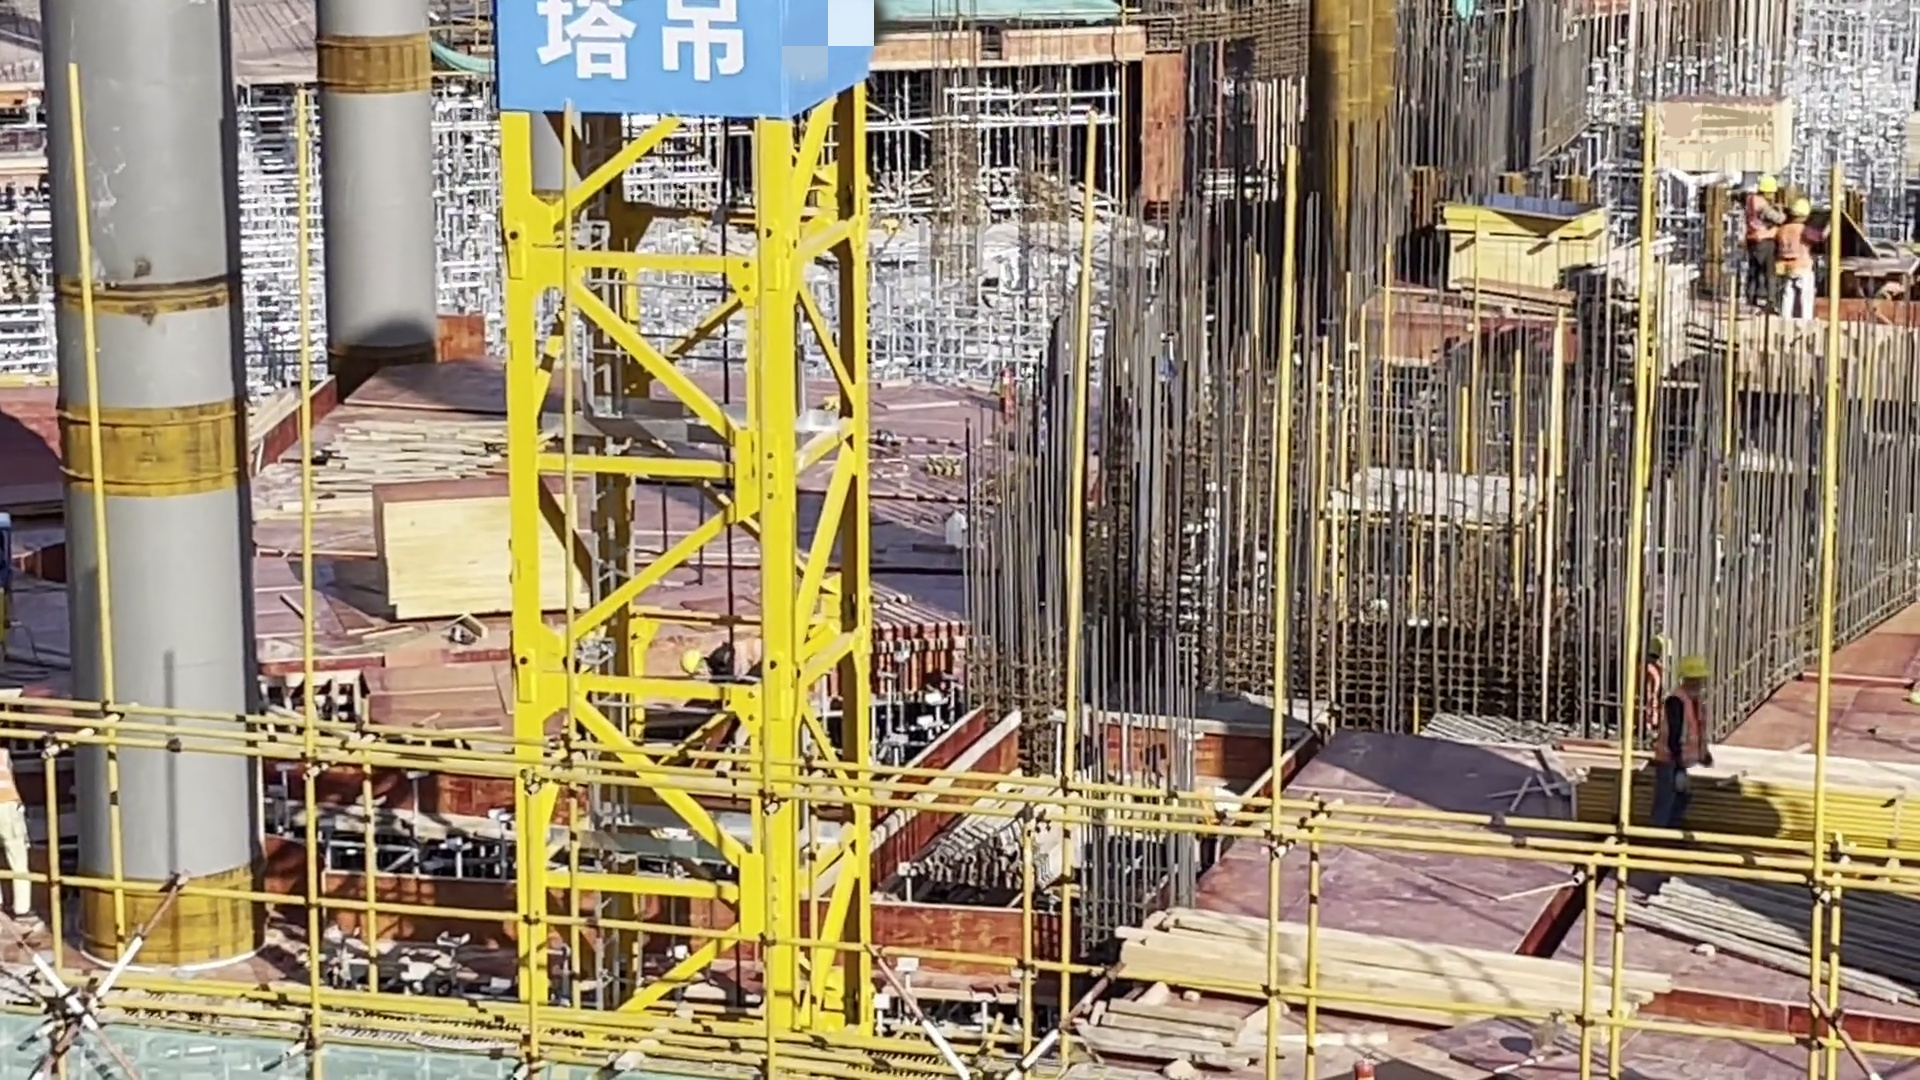board: (401, 467, 623, 642), (1616, 87, 1781, 172)
helmet: (676, 641, 708, 674)
person: (664, 640, 789, 721), (1, 737, 54, 915), (1788, 193, 1834, 336), (1671, 663, 1708, 838), (1631, 623, 1663, 723), (1746, 180, 1779, 260)
vest: (716, 617, 759, 706), (1669, 689, 1708, 764), (1, 751, 29, 829), (1783, 222, 1809, 274), (1748, 206, 1773, 244), (1651, 666, 1661, 729)
wood: (1069, 896, 1583, 1061), (1573, 276, 1698, 407)
